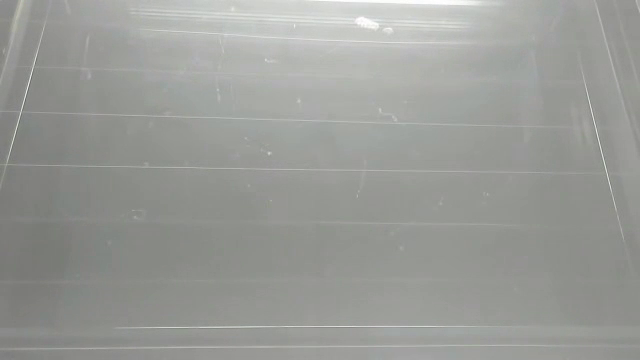alpha: (352, 12, 398, 39)
